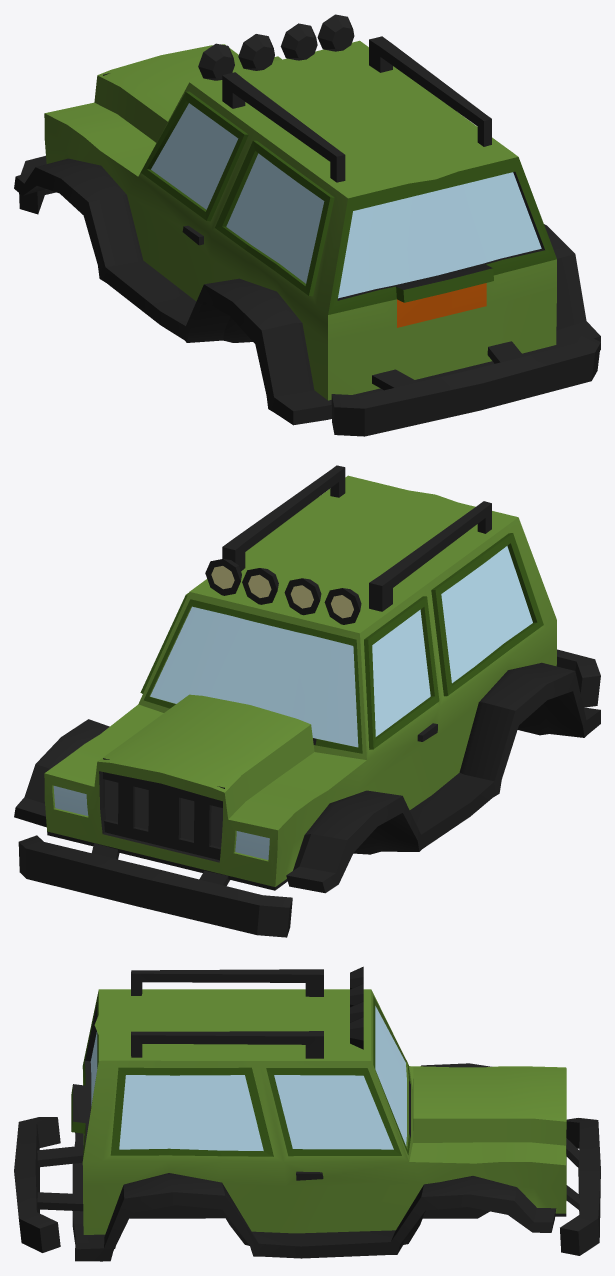
The model's file is jeep_body2.glb.
3 renders of one model, top to bottom at view 1: azimuth 30°, elevation 25°; view 2: azimuth 150°, elevation 25°; view 3: azimuth 270°, elevation 25°, orthographic. The views are drawn at different scales.
Parts seen in each view (by area): view 1: jeep_body; view 2: jeep_body; view 3: jeep_body.
Part boxes in pixels (x1=…): jeep_body: x1=14, y1=14, x2=600, y2=436; jeep_body: x1=14, y1=465, x2=600, y2=937; jeep_body: x1=14, y1=966, x2=600, y2=1261.
Bounding box in the file's own units: 1.72 × 1.24 × 3.19.
1 material, 1 textured.
